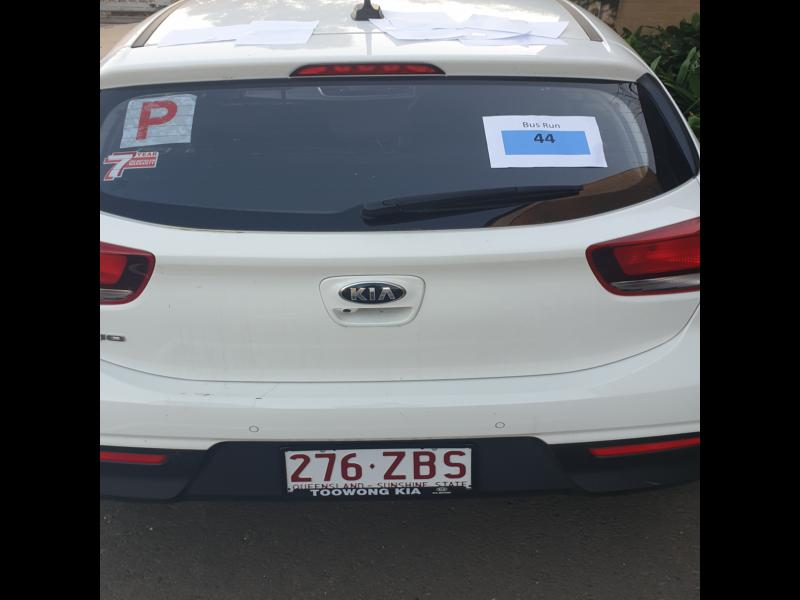BusRun: (502, 128, 589, 159)
PlateNo: (282, 446, 473, 490)
